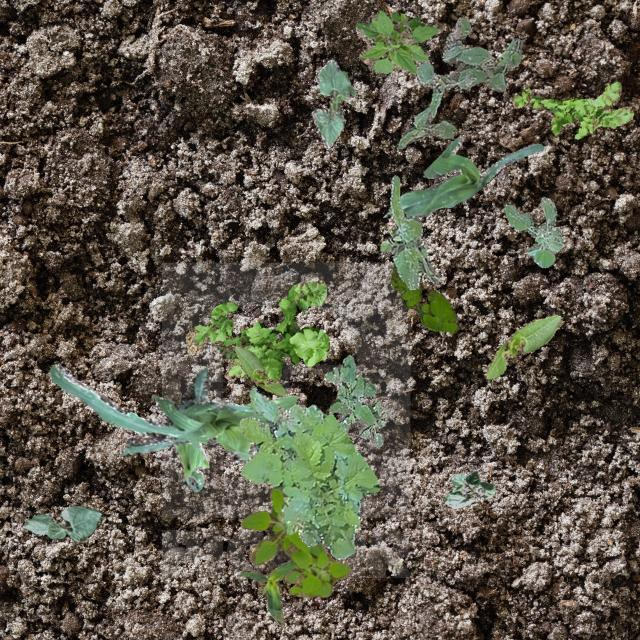crop: (48, 364, 296, 464), (386, 137, 542, 216), (486, 314, 560, 378), (310, 59, 354, 148), (240, 558, 294, 626), (20, 504, 100, 540), (233, 344, 284, 394), (442, 470, 493, 508), (174, 440, 208, 490)
weed: (238, 386, 378, 558), (397, 16, 521, 148), (184, 279, 328, 382), (240, 488, 348, 596), (510, 80, 632, 138), (380, 174, 440, 288), (322, 354, 387, 446), (354, 10, 436, 74), (390, 262, 458, 332), (503, 196, 561, 266), (216, 344, 236, 360)
